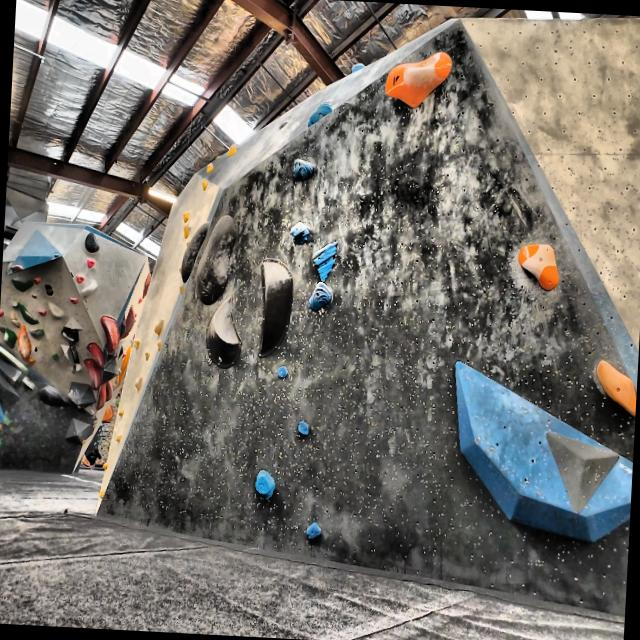Hold: (384, 49, 462, 114), (252, 254, 298, 360), (193, 208, 240, 310), (204, 294, 242, 370), (590, 354, 638, 414), (515, 244, 561, 290), (180, 222, 212, 286), (310, 240, 339, 282), (307, 279, 334, 314), (307, 100, 335, 132), (254, 468, 280, 502), (98, 314, 120, 353), (82, 358, 104, 392), (291, 156, 318, 183), (286, 221, 314, 246), (86, 340, 108, 370), (303, 519, 327, 545), (18, 303, 42, 326), (18, 326, 32, 362), (80, 278, 98, 302), (60, 324, 80, 344), (47, 300, 66, 321), (95, 378, 106, 414), (11, 278, 34, 294), (84, 232, 100, 254), (68, 340, 82, 364), (142, 269, 153, 299), (21, 373, 38, 392), (126, 302, 136, 334), (101, 404, 115, 426), (3, 327, 17, 349), (350, 58, 368, 74), (178, 224, 194, 242), (296, 421, 310, 441), (224, 140, 238, 160), (274, 367, 290, 383), (153, 318, 167, 336), (104, 378, 114, 403), (177, 209, 191, 224), (28, 328, 47, 339), (9, 312, 21, 329), (134, 377, 146, 392), (10, 262, 26, 273), (205, 162, 217, 176), (276, 120, 290, 132), (42, 284, 56, 296), (130, 337, 142, 350), (200, 178, 209, 194), (74, 273, 86, 285), (100, 461, 111, 474), (25, 356, 36, 368), (86, 257, 96, 270), (3, 414, 12, 427), (51, 350, 60, 362), (144, 350, 152, 363), (68, 296, 78, 306), (32, 275, 42, 285), (180, 284, 187, 298), (99, 490, 108, 500), (38, 308, 47, 318), (114, 435, 122, 444), (156, 341, 163, 351), (68, 388, 74, 399), (12, 300, 20, 308), (118, 411, 126, 418), (72, 364, 76, 376), (0, 434, 3, 449), (81, 439, 87, 446), (0, 423, 3, 434), (0, 310, 4, 318)
